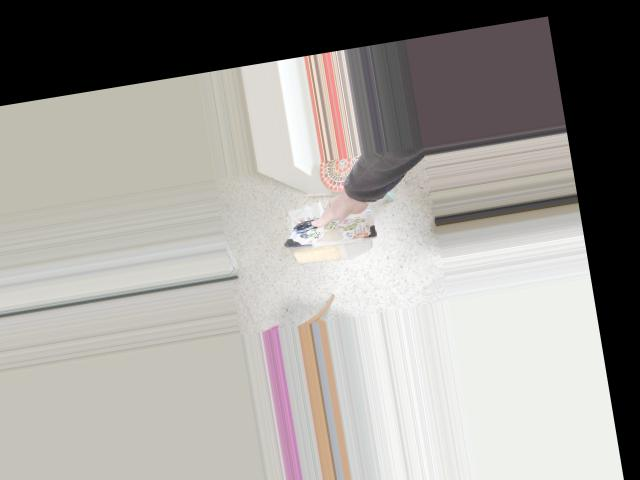cheese: (274, 185, 394, 292)
